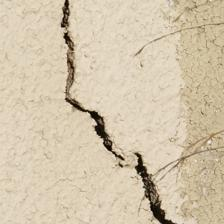Crack: (0, 4, 137, 77), (21, 32, 99, 144)
